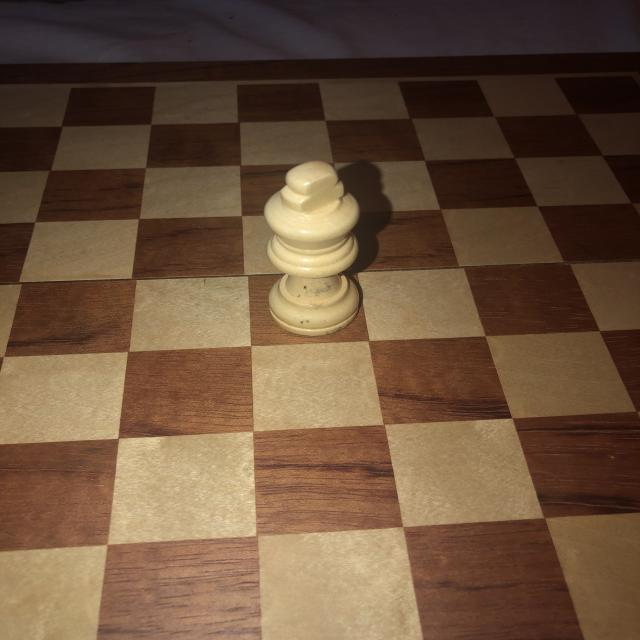white_king: (263, 158, 366, 336)
